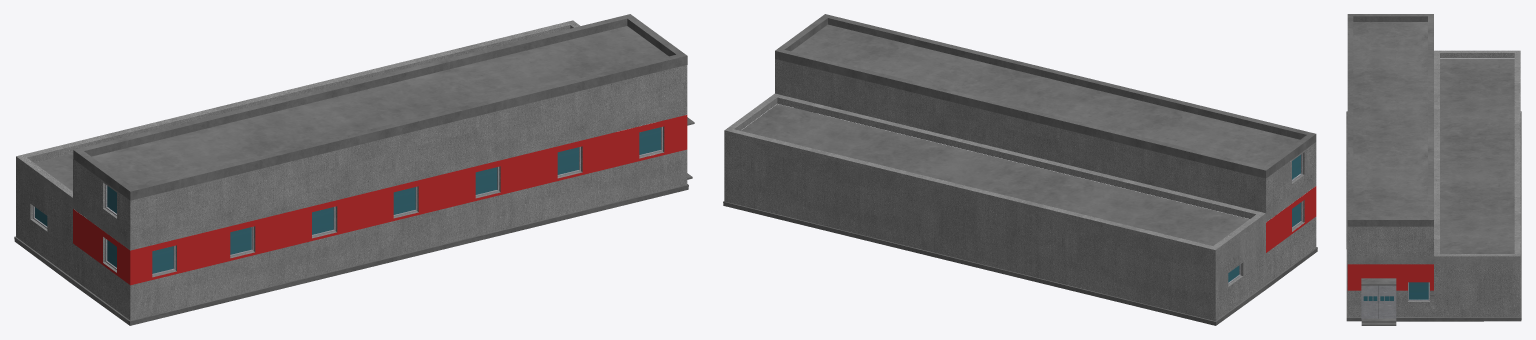
The model's file is 浊环水泵站.glb.
The picture shows the model from 3 angles, left to right: view 1: azimuth 30°, elevation 25°; view 2: azimuth 150°, elevation 25°; view 3: azimuth 270°, elevation 25°; orthographic projection. The views are drawn at different scales.
Visible parts, largest first — view 1: 浊环水泵站00, 浊环水泵站01, 浊环水泵站04, 浊环水泵站03, 浊环水泵站02; view 2: 浊环水泵站00, 浊环水泵站01, 浊环水泵站04, 浊环水泵站03; view 3: 浊环水泵站01, 浊环水泵站00, 浊环水泵站04, 浊环水泵站02, 浊环水泵站03.
Boxes of the visible parts, x1,y1,x2,y2 form: 浊环水泵站00: (16, 20, 687, 320); 浊环水泵站01: (14, 14, 694, 325); 浊环水泵站04: (73, 115, 687, 285); 浊环水泵站03: (35, 127, 660, 273); 浊环水泵站02: (33, 126, 662, 275); 浊环水泵站00: (724, 59, 1316, 321); 浊环水泵站01: (723, 14, 1317, 325); 浊环水泵站04: (1266, 186, 1316, 252); 浊环水泵站03: (1228, 155, 1300, 282); 浊环水泵站01: (1346, 14, 1521, 325); 浊环水泵站00: (1347, 50, 1520, 317); 浊环水泵站04: (1347, 264, 1433, 290); 浊环水泵站02: (1361, 282, 1429, 319); 浊环水泵站03: (1363, 282, 1428, 300).
Size of the model in its own units: 41.94 by 9.34 by 14.63.
Materials: 5 (4 with a texture image).
